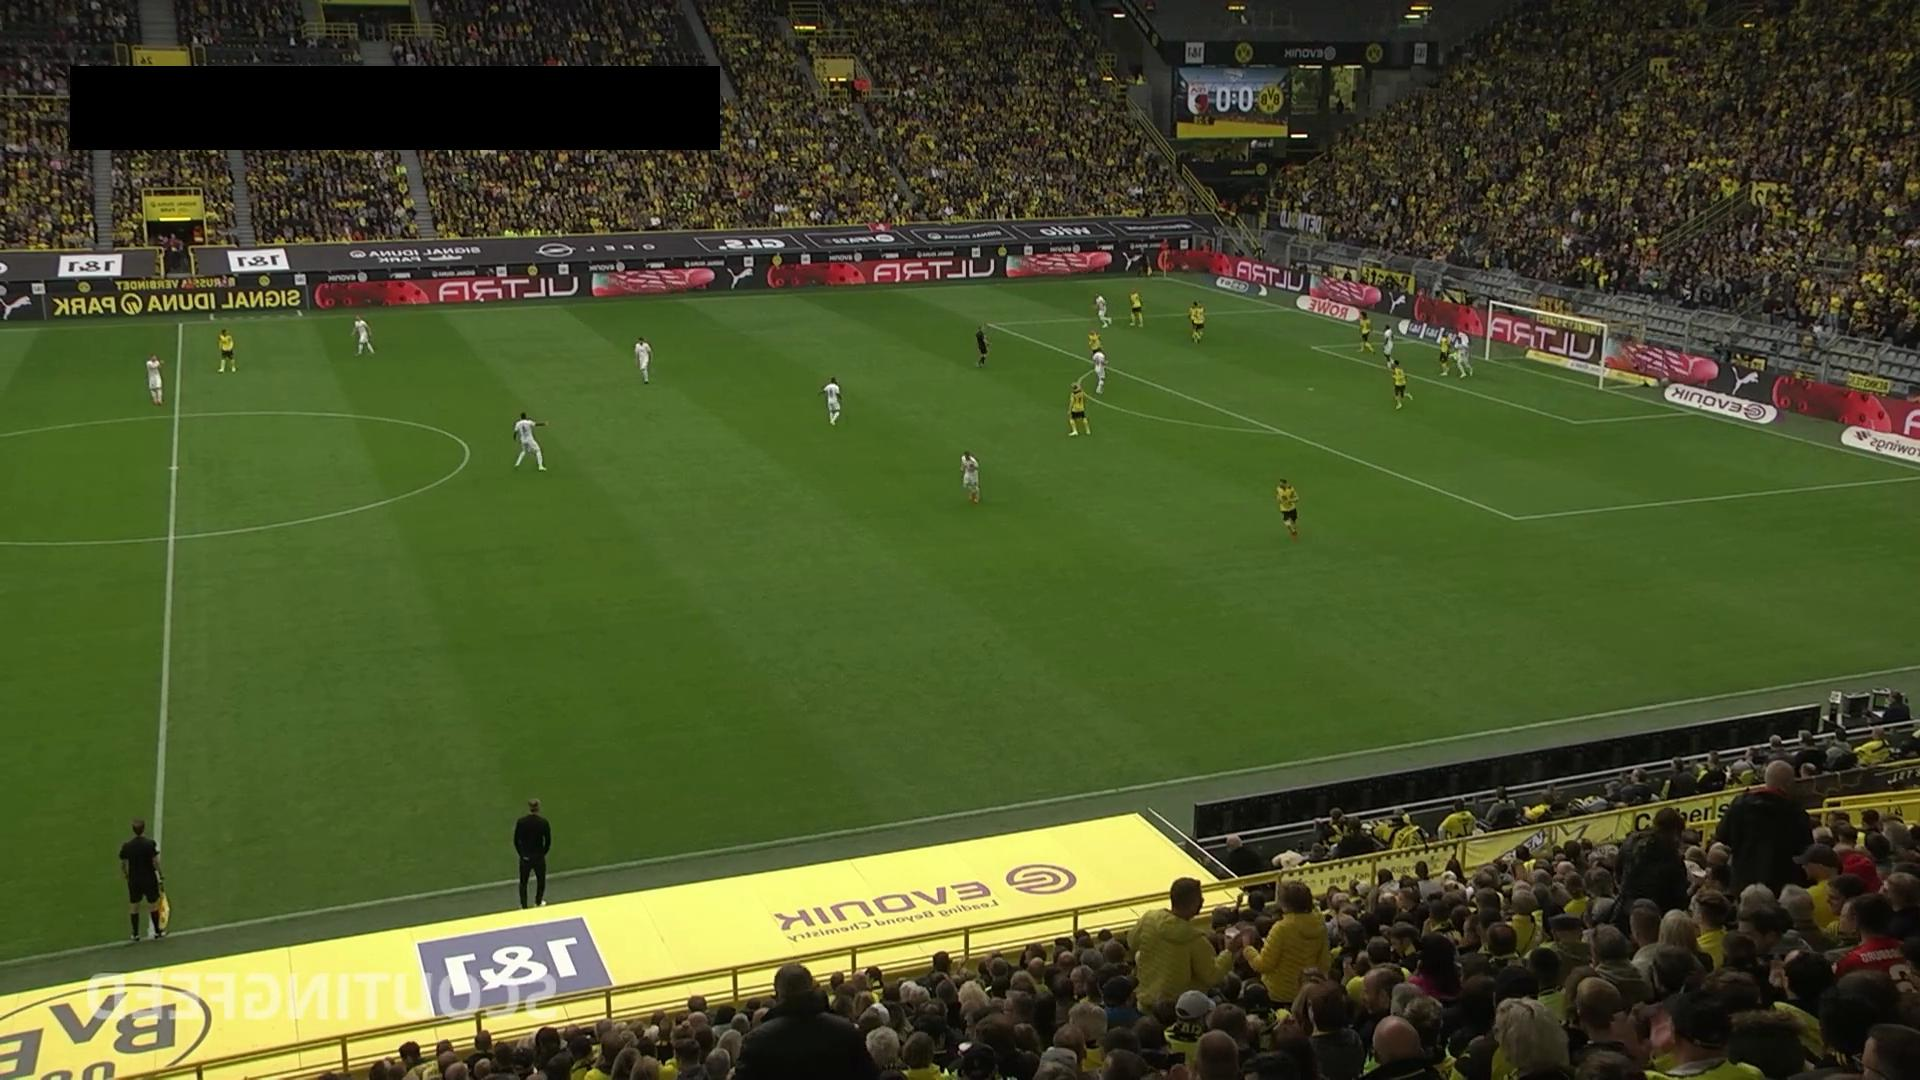goalkeeper: (1453, 337, 1474, 380)
player: (512, 410, 548, 471), (1275, 478, 1299, 540), (1390, 359, 1414, 411), (1067, 382, 1090, 436), (818, 376, 842, 426), (960, 450, 980, 503), (145, 353, 165, 405), (351, 316, 375, 356), (216, 327, 236, 373), (1087, 327, 1108, 370), (634, 335, 652, 384), (1381, 323, 1398, 371), (1093, 292, 1114, 330), (1188, 299, 1205, 343), (1091, 347, 1107, 393), (1359, 311, 1374, 353), (1438, 330, 1452, 374), (1128, 289, 1144, 327)
referee: (118, 819, 167, 943), (974, 326, 990, 368), (1136, 245, 1153, 279)
